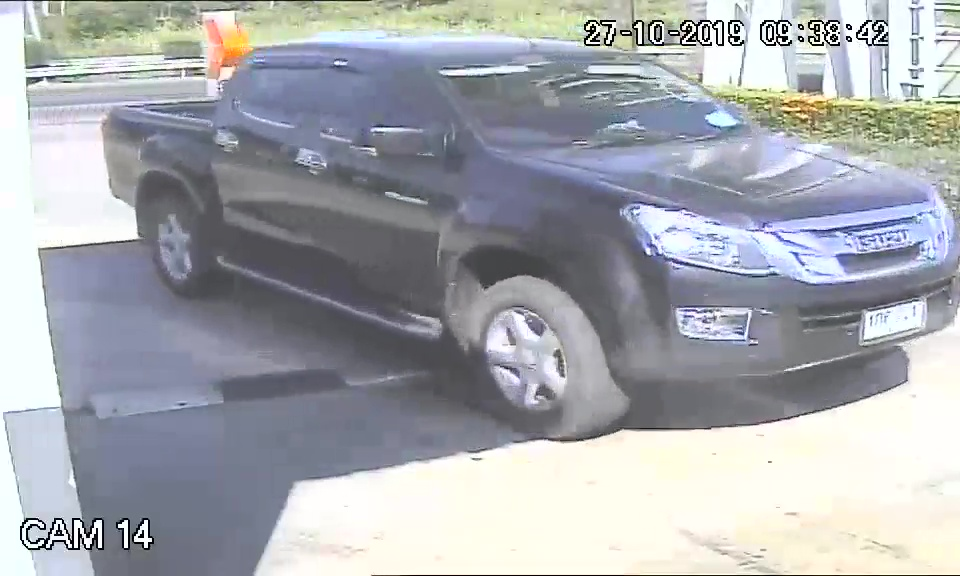pickup: (95, 32, 959, 443)
